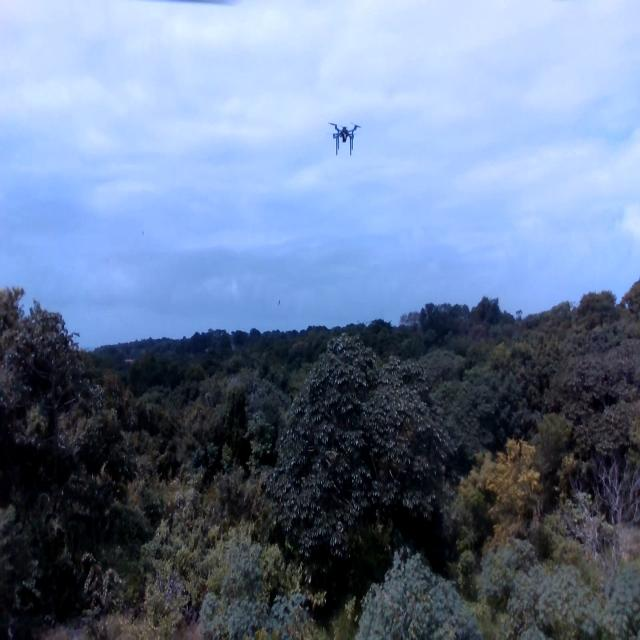-uav-: (321, 102, 372, 179)
